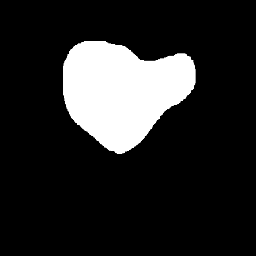mass: (67, 45, 193, 146)
